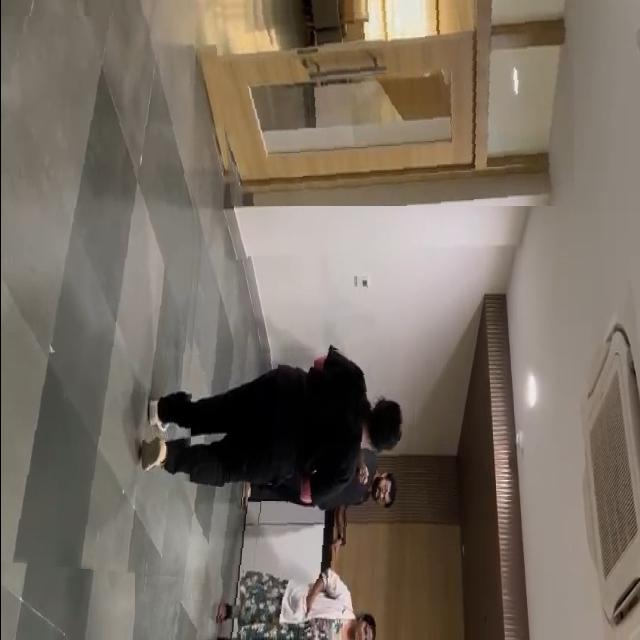door: (212, 0, 573, 206)
floor: (0, 16, 199, 578)
moving_object: (134, 347, 418, 640)
